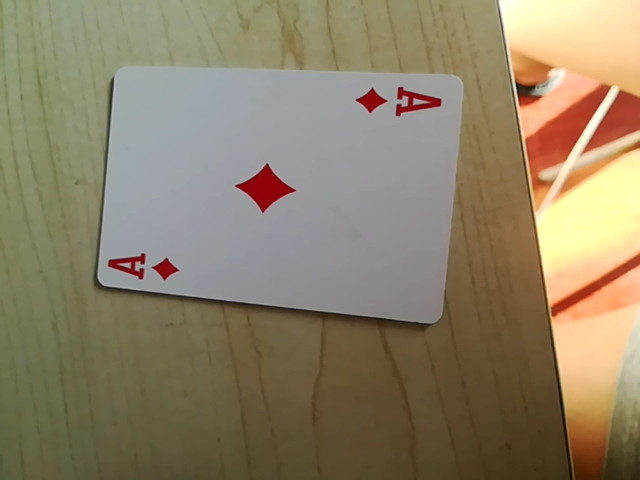fk a: (354, 82, 445, 123), (102, 246, 183, 290)
